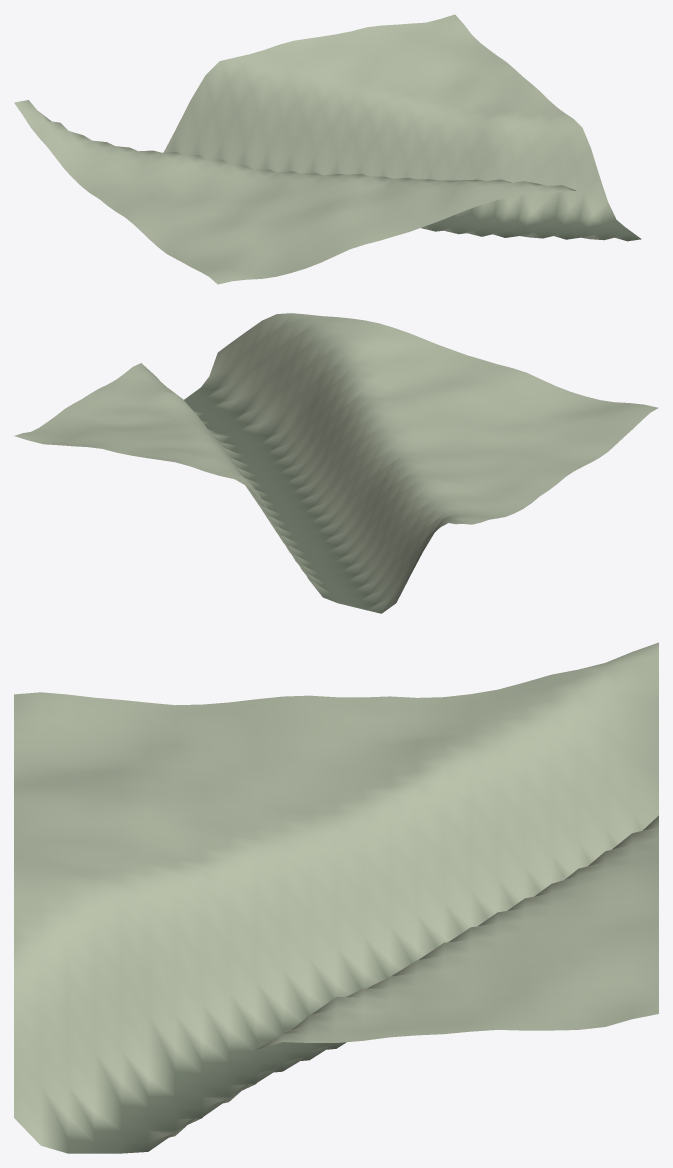
3 renders of one model, top to bottom at view 1: azimuth 30°, elevation 25°; view 2: azimuth 150°, elevation 25°; view 3: azimuth 270°, elevation 25°, orthographic. The views are drawn at different scales.
Parts seen in each view (by area): view 1: world-ground/90-48; view 2: world-ground/90-48; view 3: world-ground/90-48.
Boxes of the visible parts, box(x1,y1,x2,y2) form: world-ground/90-48: box(14, 14, 641, 284); world-ground/90-48: box(14, 313, 658, 613); world-ground/90-48: box(14, 642, 658, 1153).
Size of the model in its own units: 37.5 by 8.75 by 30.
